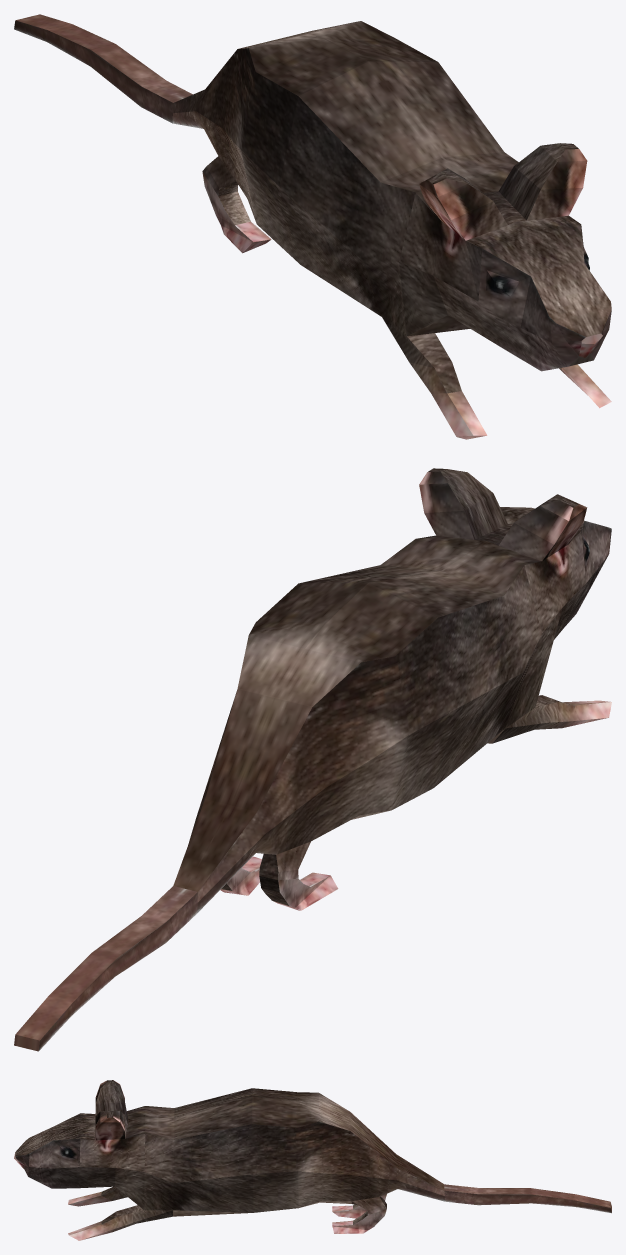
Rendered from rat.glb.
The picture shows the model from 3 angles, top to bottom: view 1: azimuth 30°, elevation 25°; view 2: azimuth 150°, elevation 25°; view 3: azimuth 270°, elevation 25°; orthographic projection. The views are drawn at different scales.
Parts seen in each view (by area): view 1: ps1_rat; view 2: ps1_rat; view 3: ps1_rat.
Part boxes in pixels (left/top/right/bottom): ps1_rat: left=14, top=14, right=611, bottom=439; ps1_rat: left=14, top=468, right=611, bottom=1051; ps1_rat: left=14, top=1080, right=611, bottom=1240.
Bounding box in the file's own units: 0.1315 × 0.1716 × 0.7323.
1 material, 1 textured.
